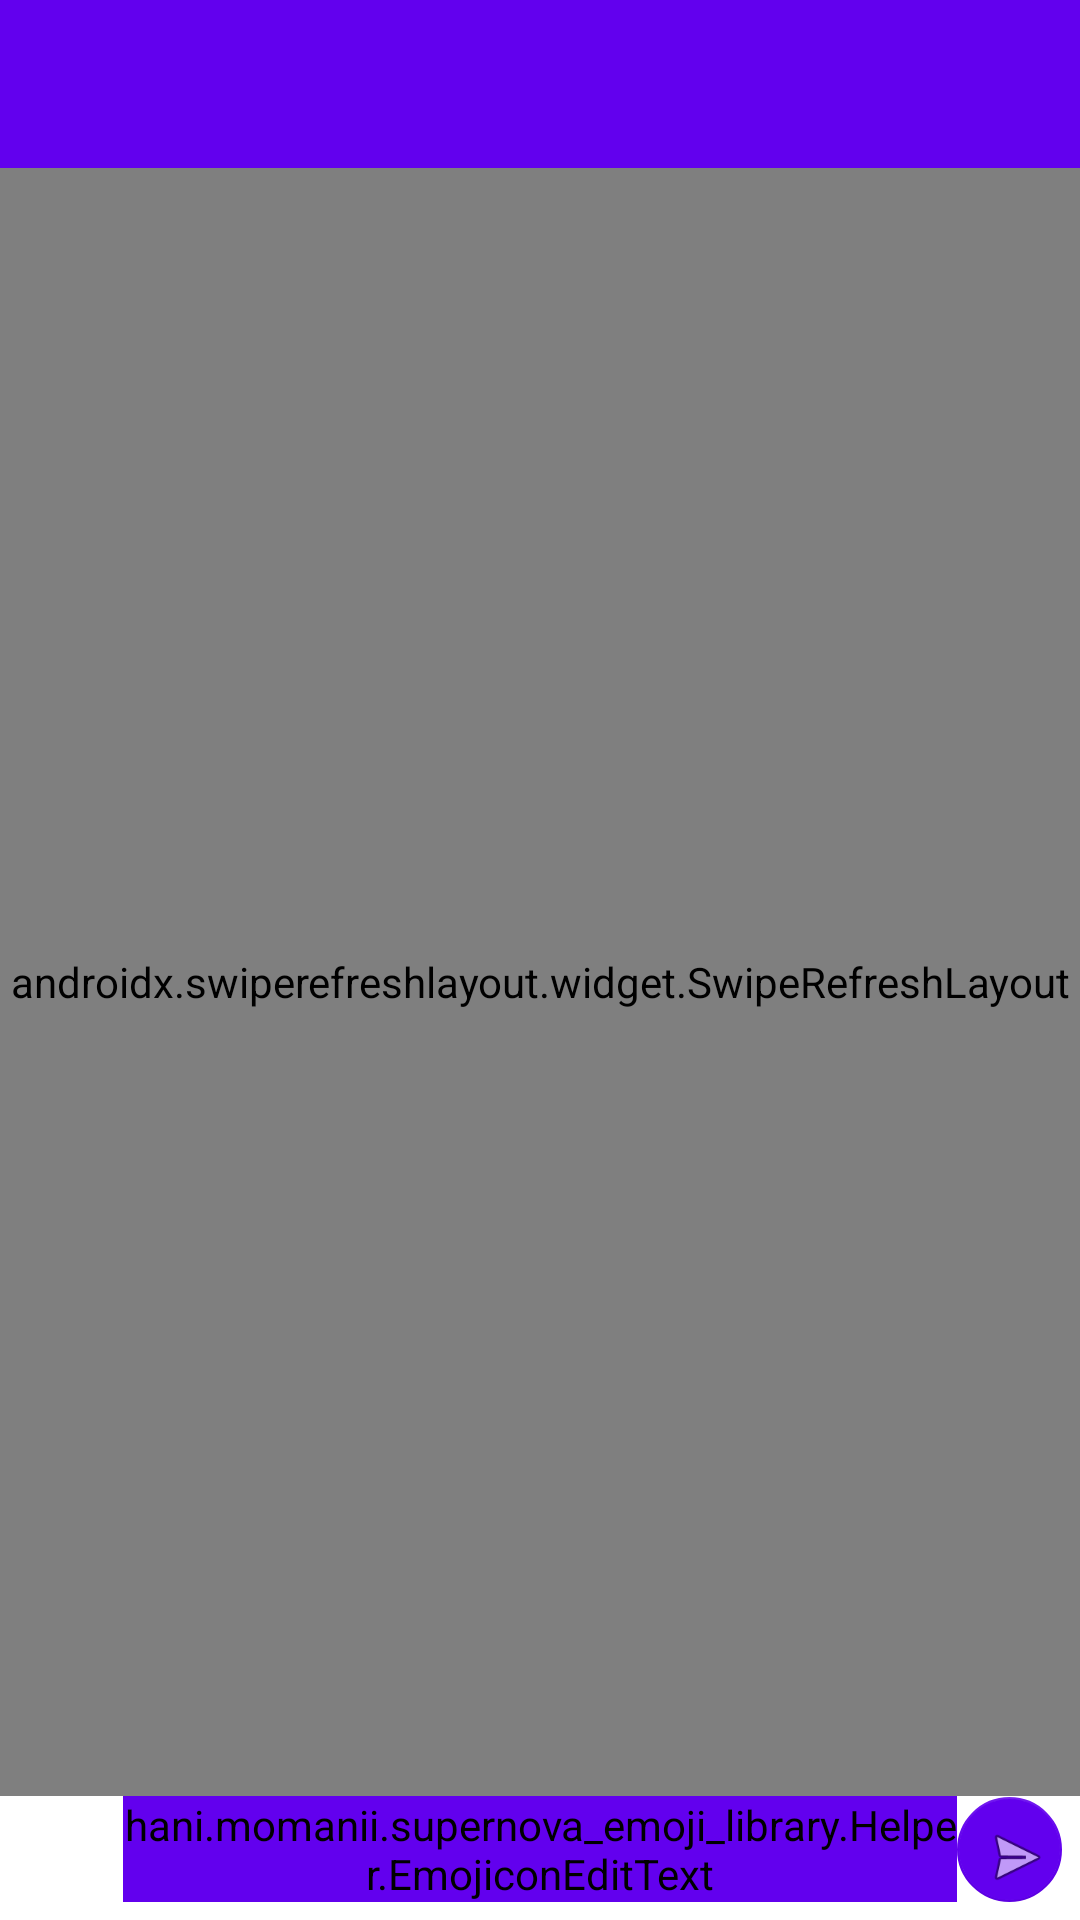

Point at icon controls on the screen. Image size 1080×1920, points as point (x, y).
send: point (1009, 1849)
